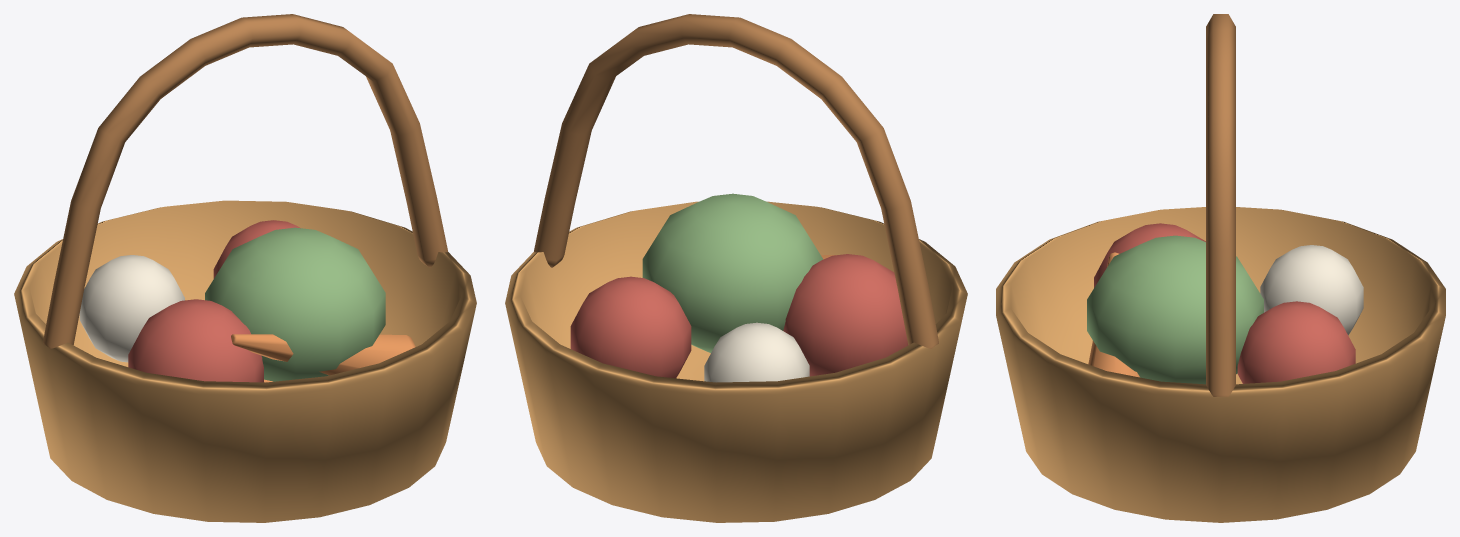
File: kitchen_veg_basket.glb
3 views of the same model, side by side, from view 1: azimuth 30°, elevation 25°; view 2: azimuth 150°, elevation 25°; view 3: azimuth 270°, elevation 25° (orthographic).
Parts seen in each view (by area): view 1: kitchen_veg_basket_mesh; view 2: kitchen_veg_basket_mesh; view 3: kitchen_veg_basket_mesh.
Boxes of the visible parts, x1,y1,x2,y2 form: kitchen_veg_basket_mesh: (14, 14, 476, 522); kitchen_veg_basket_mesh: (505, 14, 967, 522); kitchen_veg_basket_mesh: (996, 14, 1445, 522).
Bounding box in the file's own units: 0.3 × 0.2987 × 0.2969.
